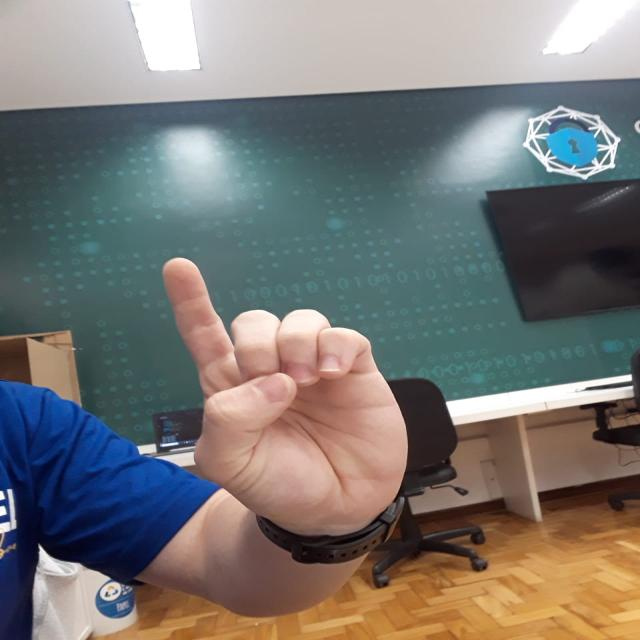D2: (142, 248, 456, 544)
